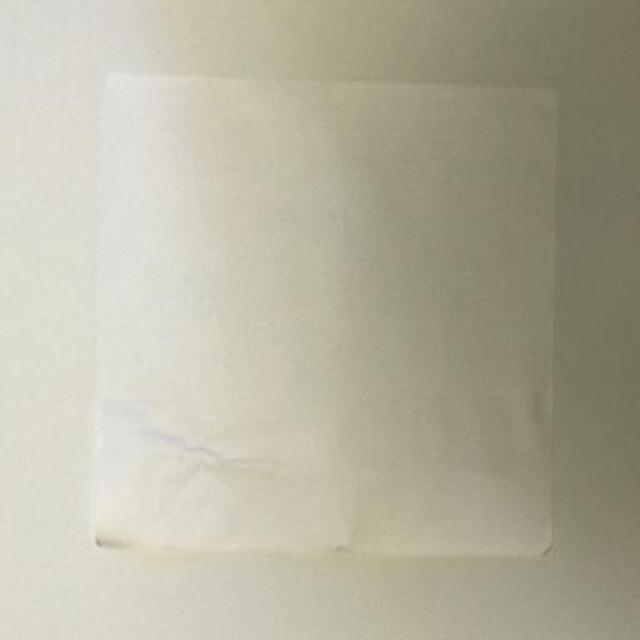paper: (91, 70, 559, 562)
